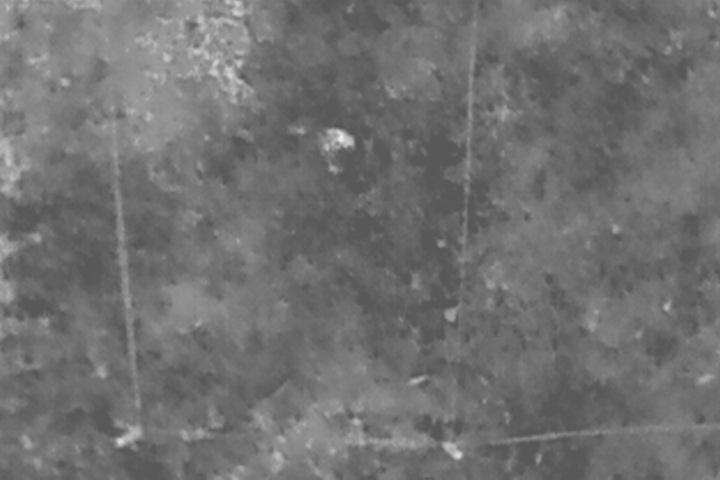landmine: (318, 122, 357, 178)
